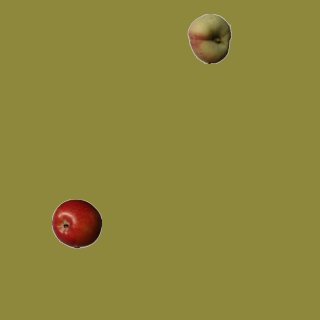Apple Braeburn: (51, 198, 101, 248)
Peach Flat: (184, 13, 234, 63)
